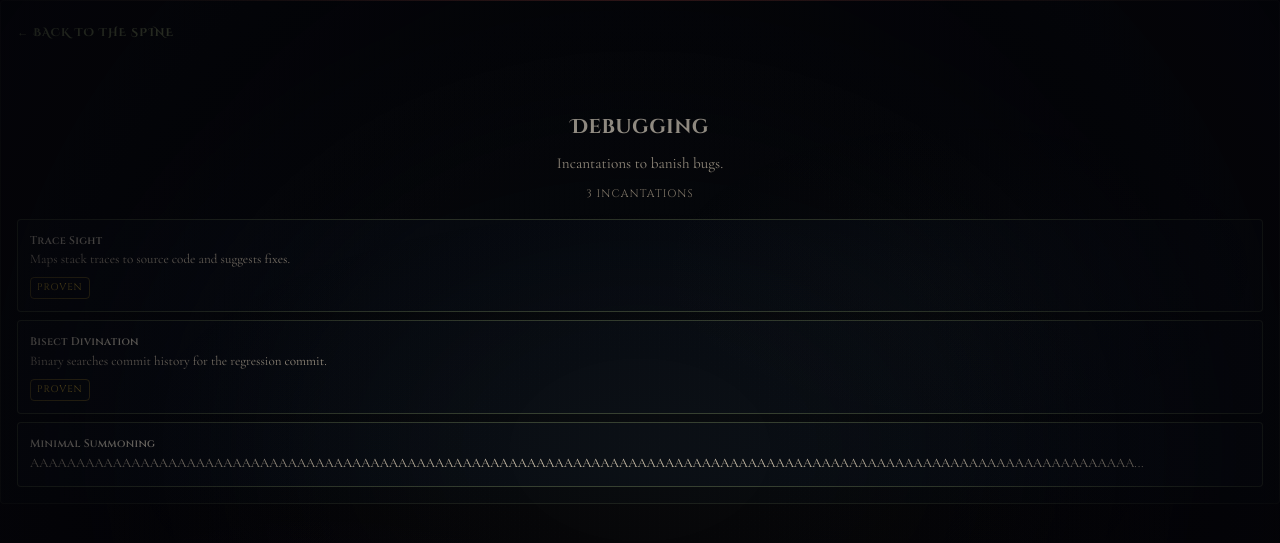
Test case: SpellDetailView › navigates to spell detail when a spell is clicked
Click the spell item button (not just the text)
Click the button "Trace Sight". click: (66, 240)
box: [17,218,1263,312]
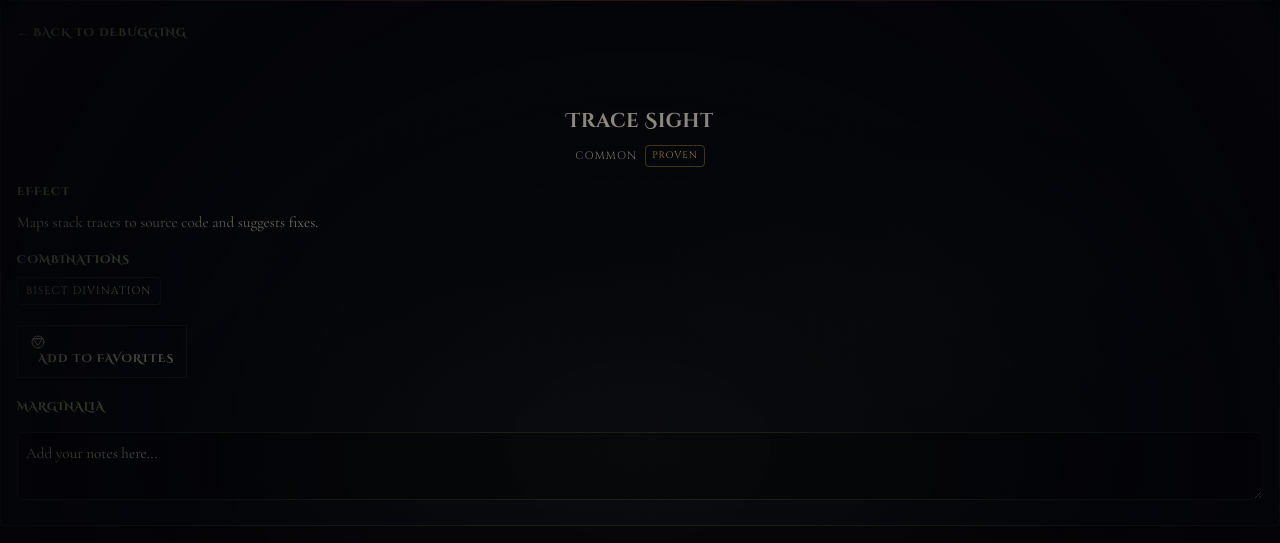
Expected: the heading "Effect" is shown, [17,183,70,202]
Expected: the text "Maps stack traces to source code and suggests fixes." is shown, [17,213,318,231]
